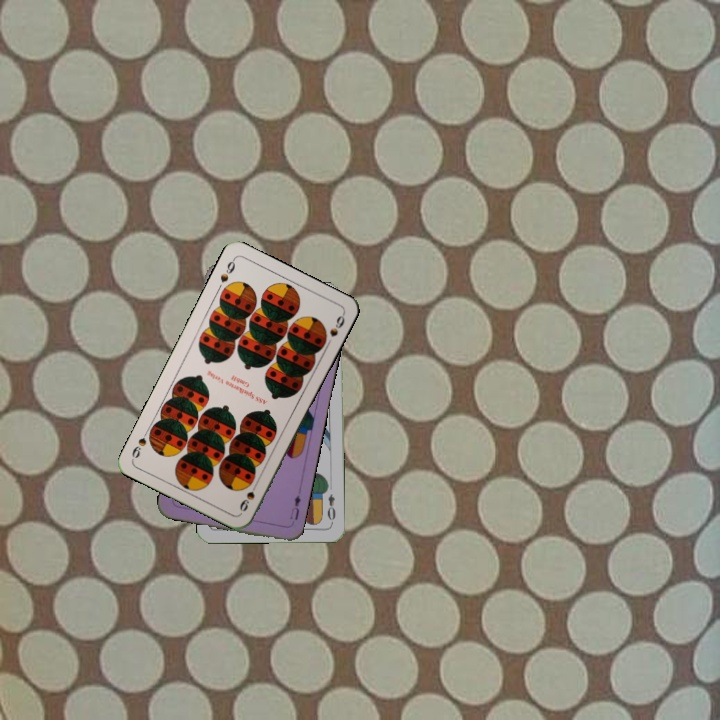EO: (323, 490, 338, 526)
EU: (286, 491, 303, 522)
S9: (235, 478, 261, 514), (216, 255, 238, 285)
